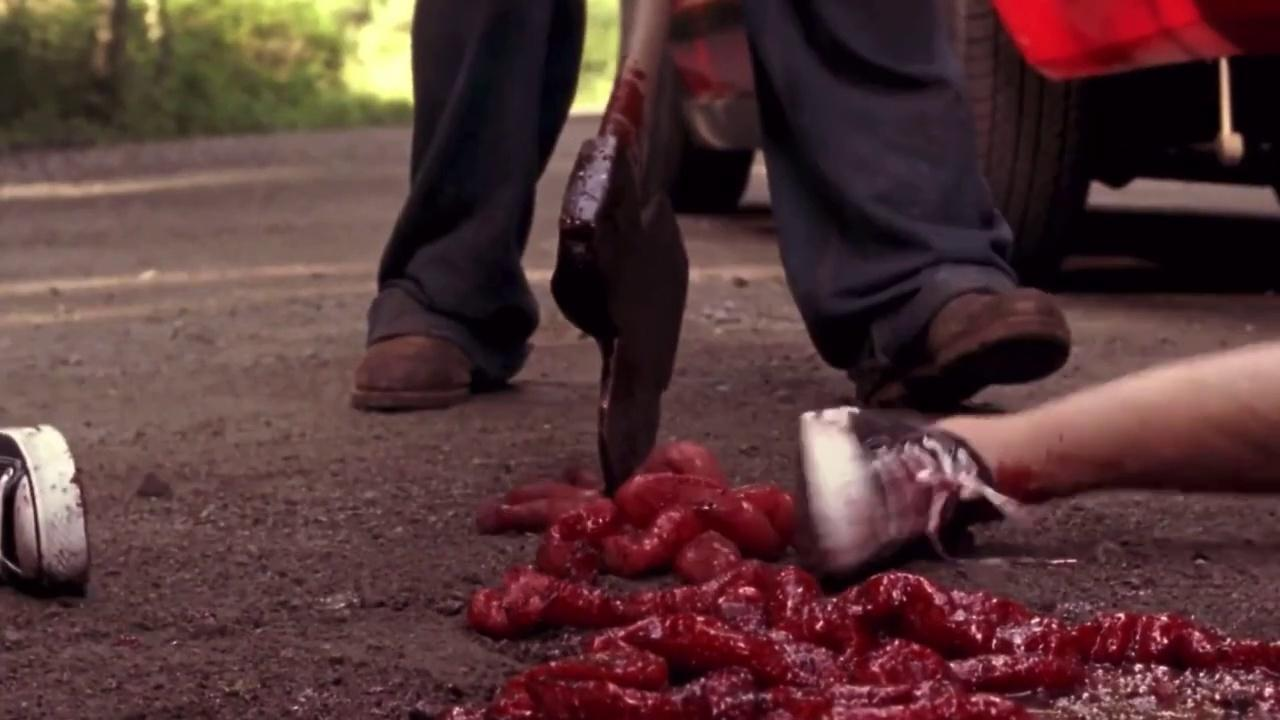Fire: (447, 441, 1280, 720), (552, 66, 683, 488)
